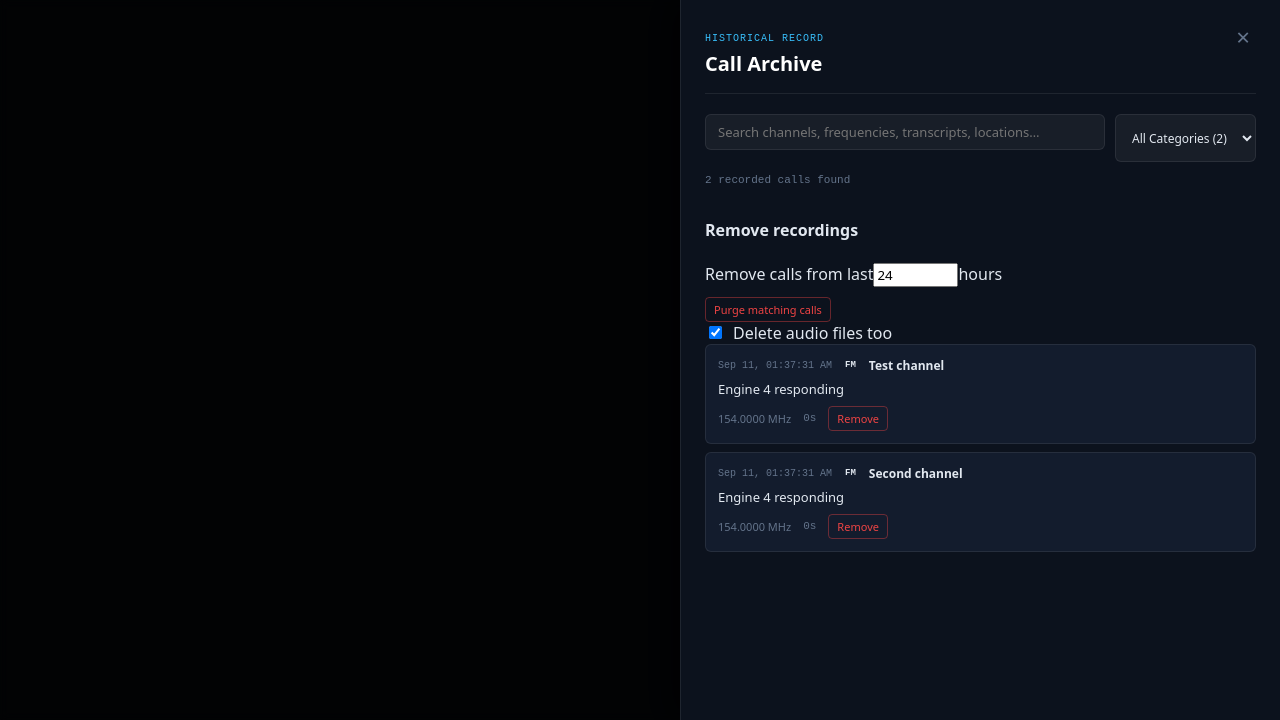
Test: undoing a metadata purge does not restore earlier audio deletions
Click the button with aria-label "Remove Test channel".
click(858, 418)  # box x1=828 y1=406 x2=888 y2=430
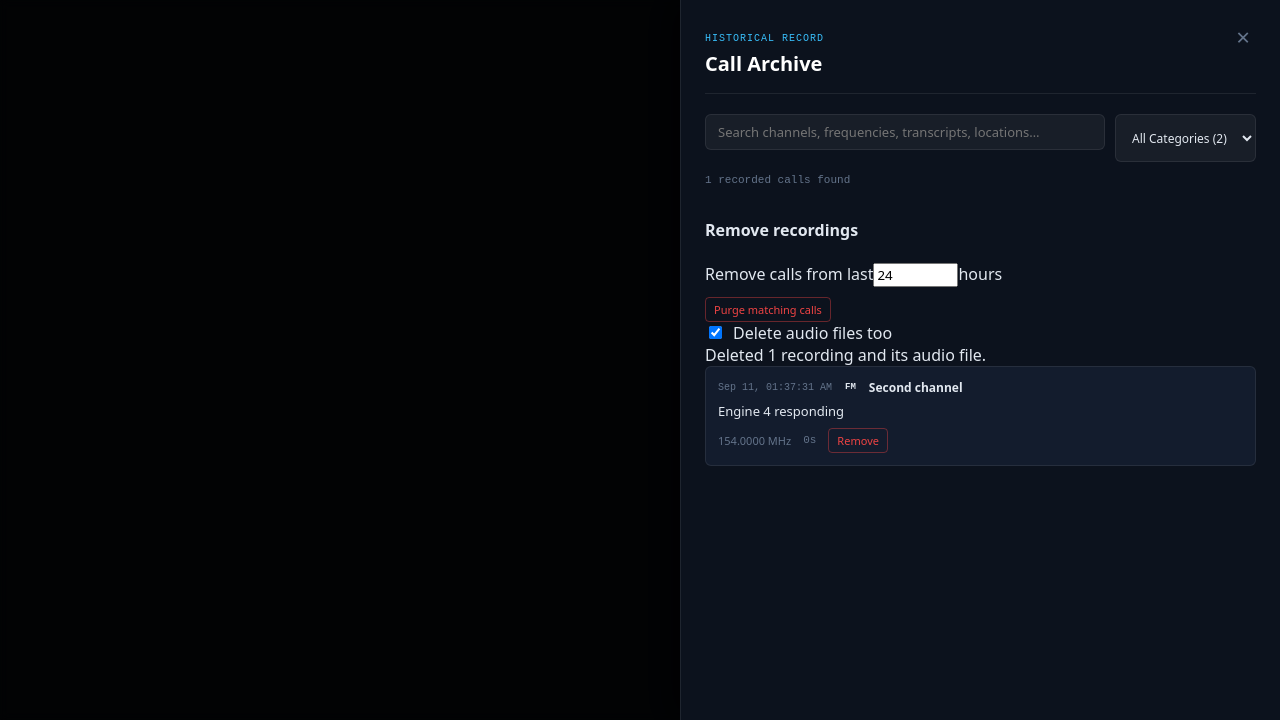
Expected: the button "Test channel" is gone
Click the checkbox labelled "Delete audio files too".
click(716, 332)  # box x1=709 y1=326 x2=722 y2=339
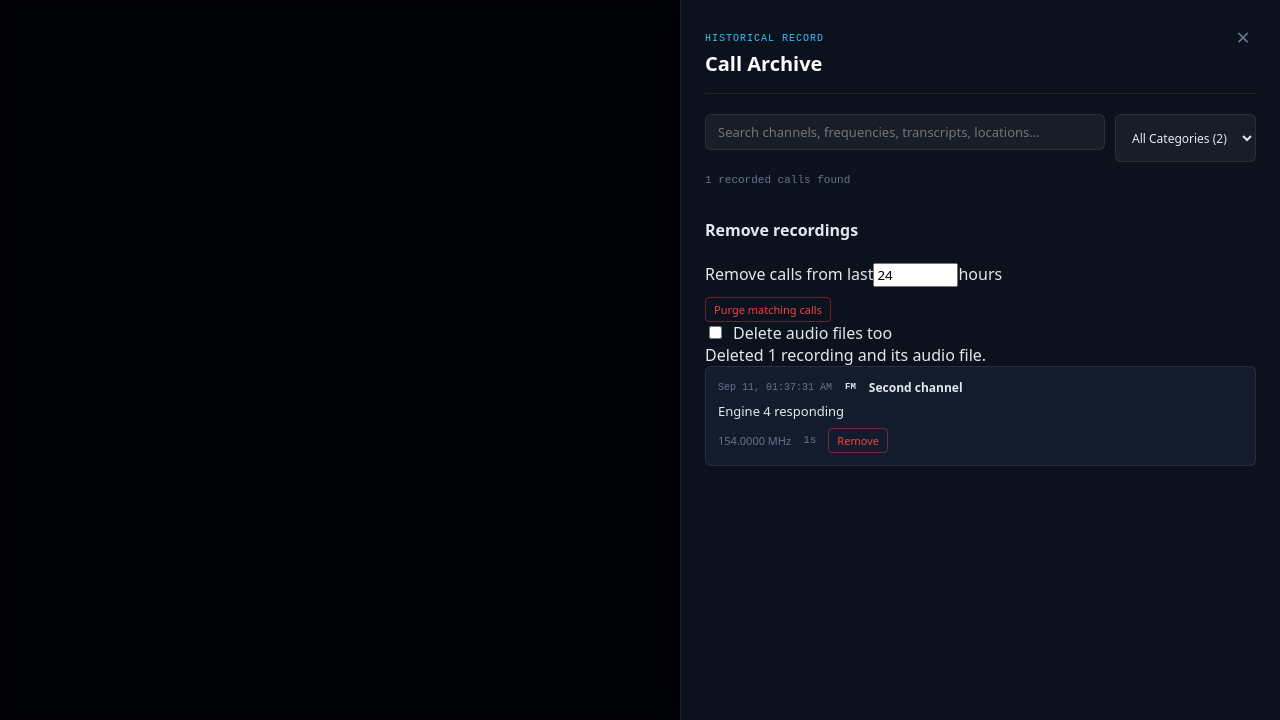
Click the button "Purge matching calls".
click(768, 309)  # box x1=705 y1=296 x2=831 y2=322
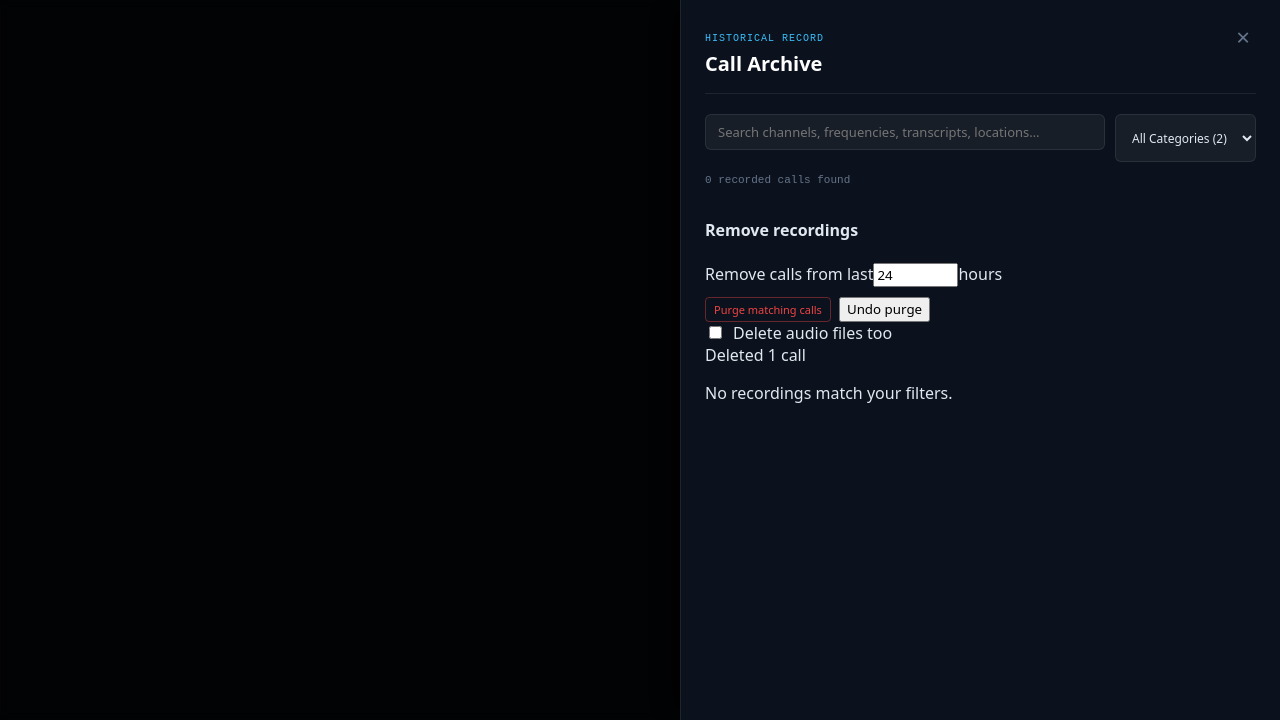
Expected: the button "Second channel" is gone
Click the button "Undo purge".
click(884, 309)  # box x1=839 y1=296 x2=930 y2=322
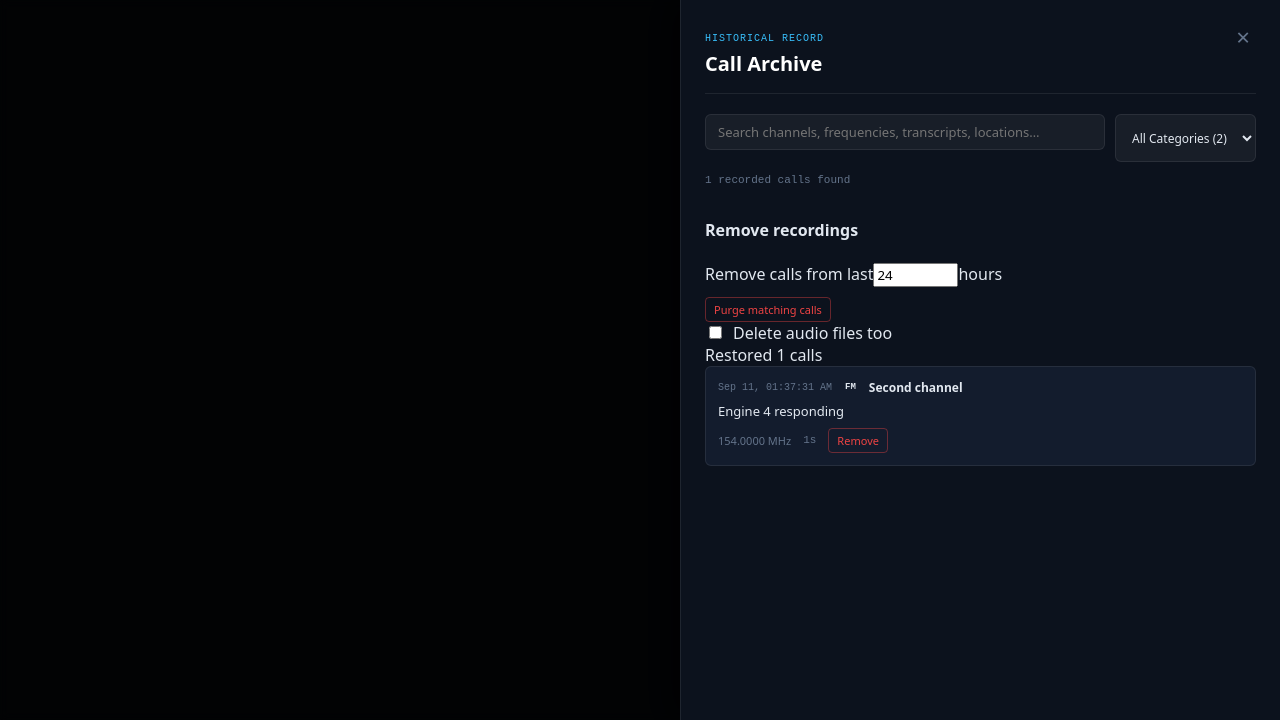
Expected: the button "Test channel" is not shown
Expected: the text "Second channel" is shown, x1=869 y1=378 x2=962 y2=396
